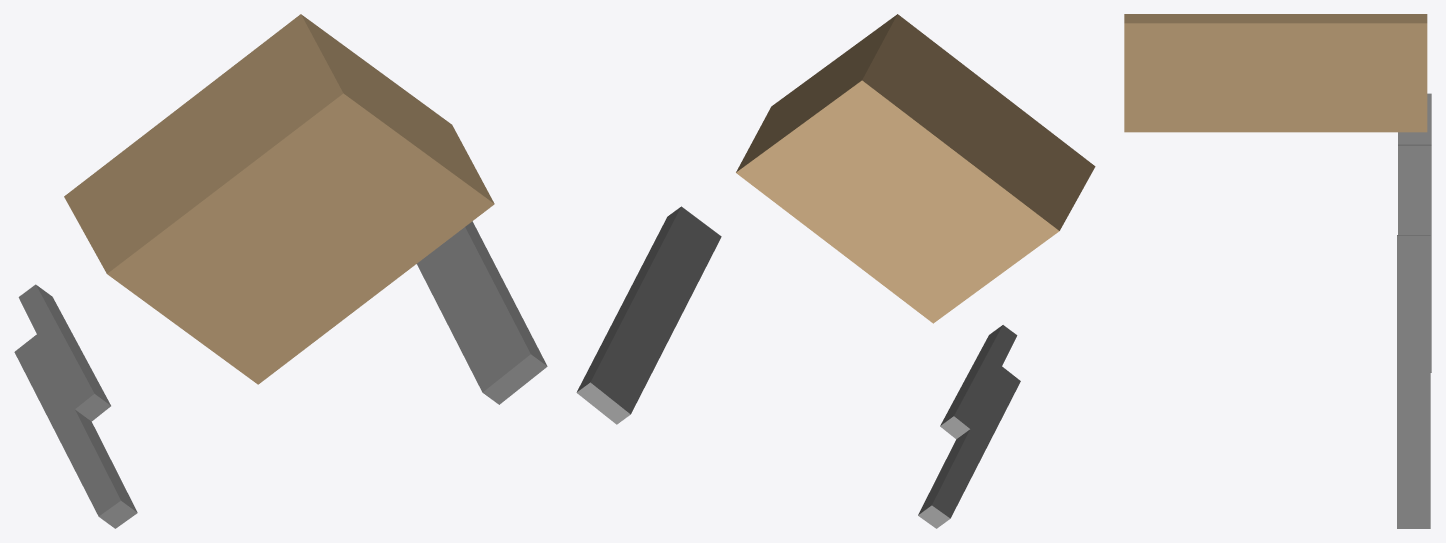
The picture shows the model from 3 angles, left to right: view 1: azimuth 30°, elevation 25°; view 2: azimuth 150°, elevation 25°; view 3: azimuth 270°, elevation 25°; orthographic projection. The views are drawn at different scales.
Parts seen in each view (by area): view 1: 0_1_0_2_1_3_3_0_3; view 2: 0_1_0_2_1_3_3_0_3; view 3: 0_1_0_2_1_3_3_0_3.
Part boxes in pixels (<box>): 0_1_0_2_1_3_3_0_3: <box>14,14,547,528</box>; 0_1_0_2_1_3_3_0_3: <box>576,14,1095,528</box>; 0_1_0_2_1_3_3_0_3: <box>1124,14,1431,528</box>.
Bounding box in the file's own units: 53.17 × 44.85 × 27.4.
